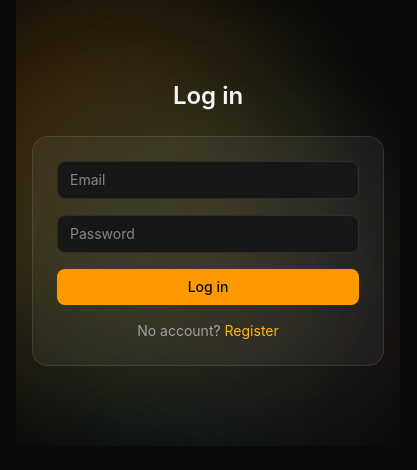
Test: LoginPage › shows an error message when login fails with invalid credentials
Type "wrong@nuzuljo.test" into the field with placeholder "Email". click: (208, 180)
box: [57, 161, 359, 199]
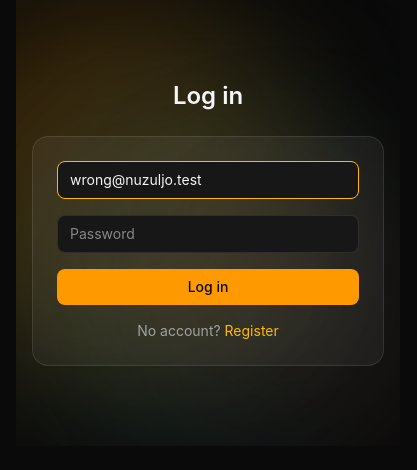
Type "wrongpass" into the password field with placeholder "Password". click: (208, 234)
box: [57, 215, 359, 253]
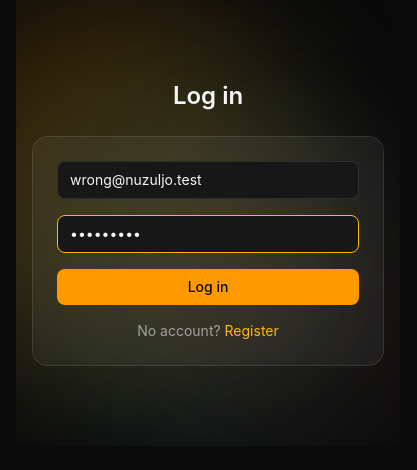
Click the button "Log in". click: (208, 287)
box: [57, 269, 359, 305]
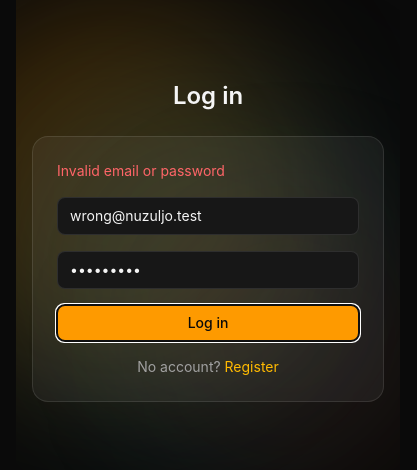
expect the text "Invalid email or password" is shown: met, box [57, 162, 225, 179]
